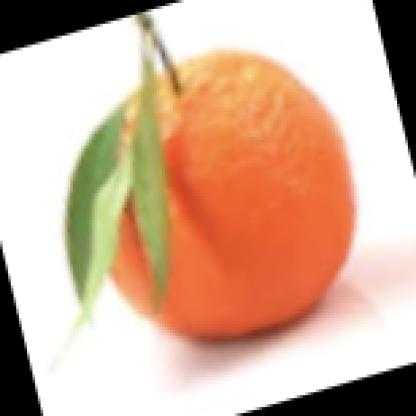fresh: (97, 52, 354, 340)
